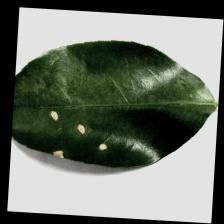canker: (36, 108, 115, 166)
